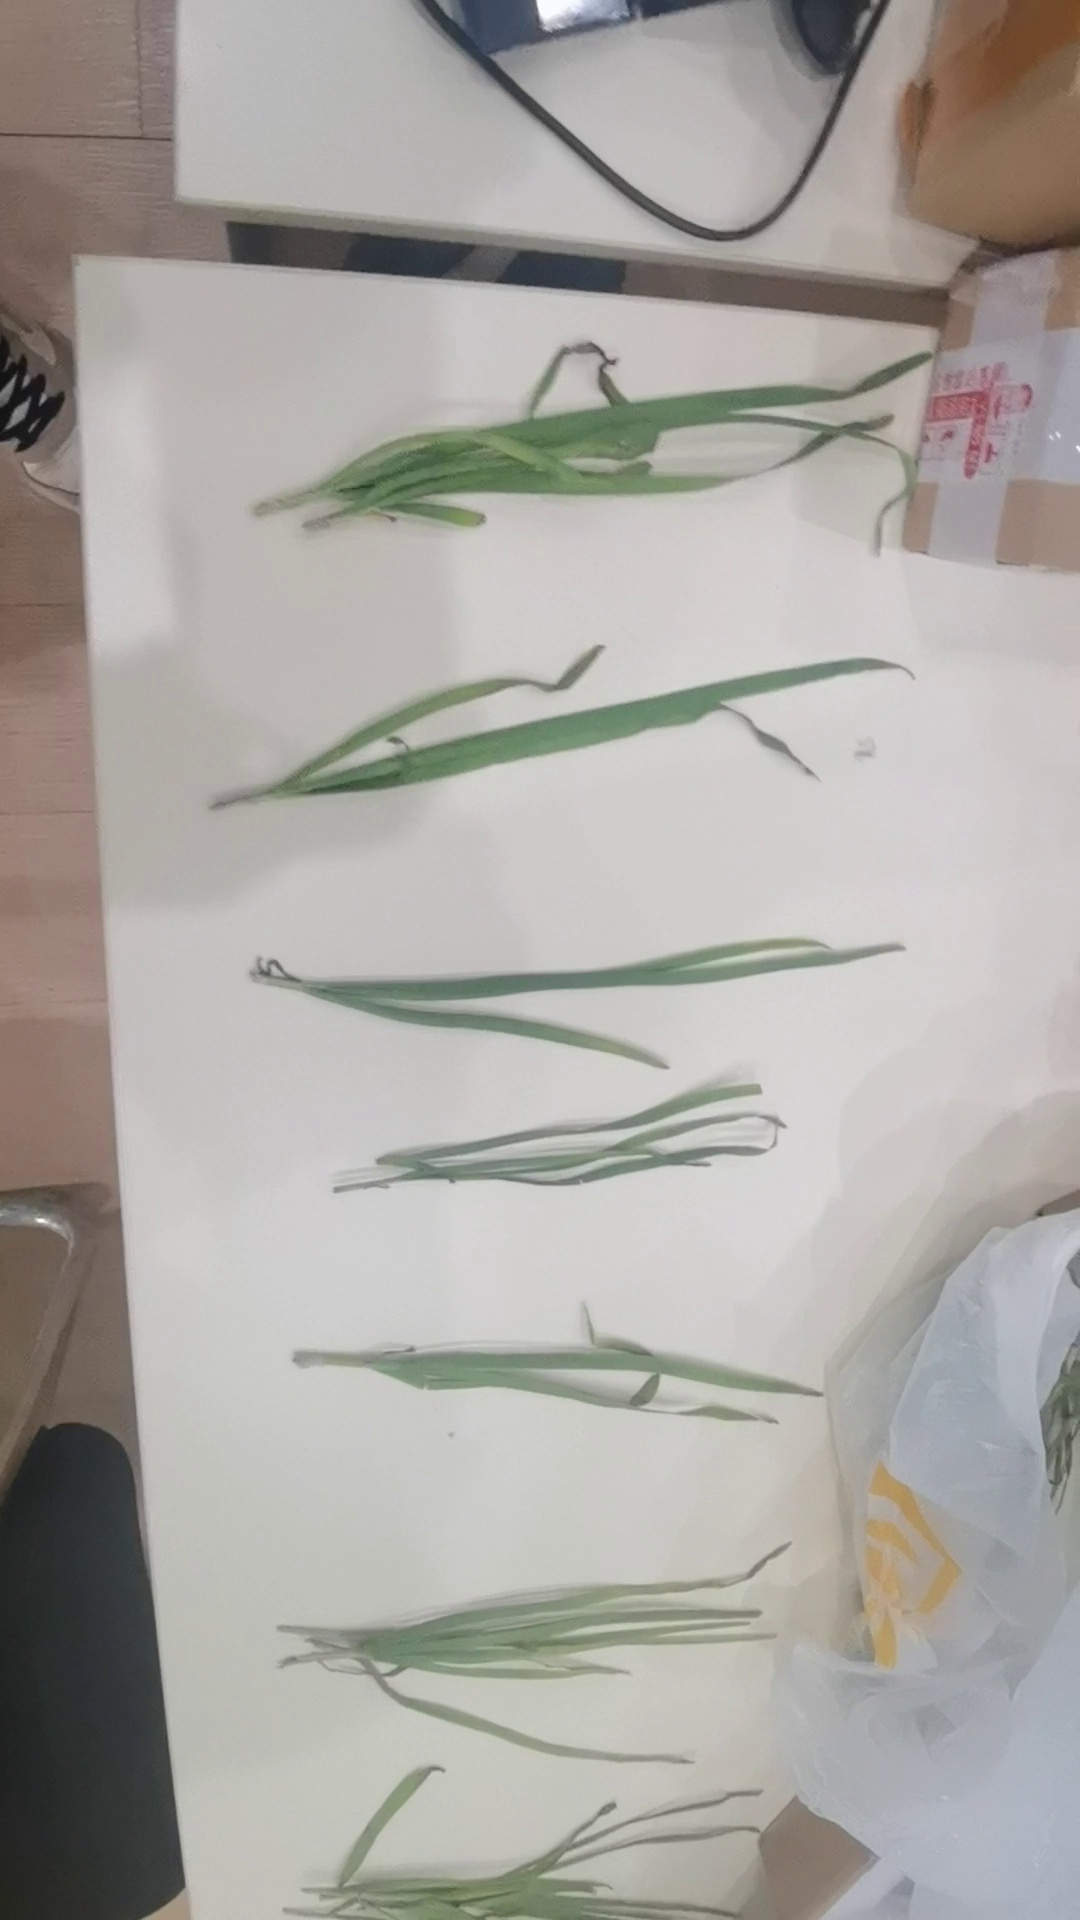chives: (233, 324, 955, 578), (194, 633, 928, 839), (236, 1545, 853, 1776), (208, 911, 967, 1072), (285, 1753, 885, 1920), (295, 1073, 808, 1233), (277, 1313, 836, 1447)
